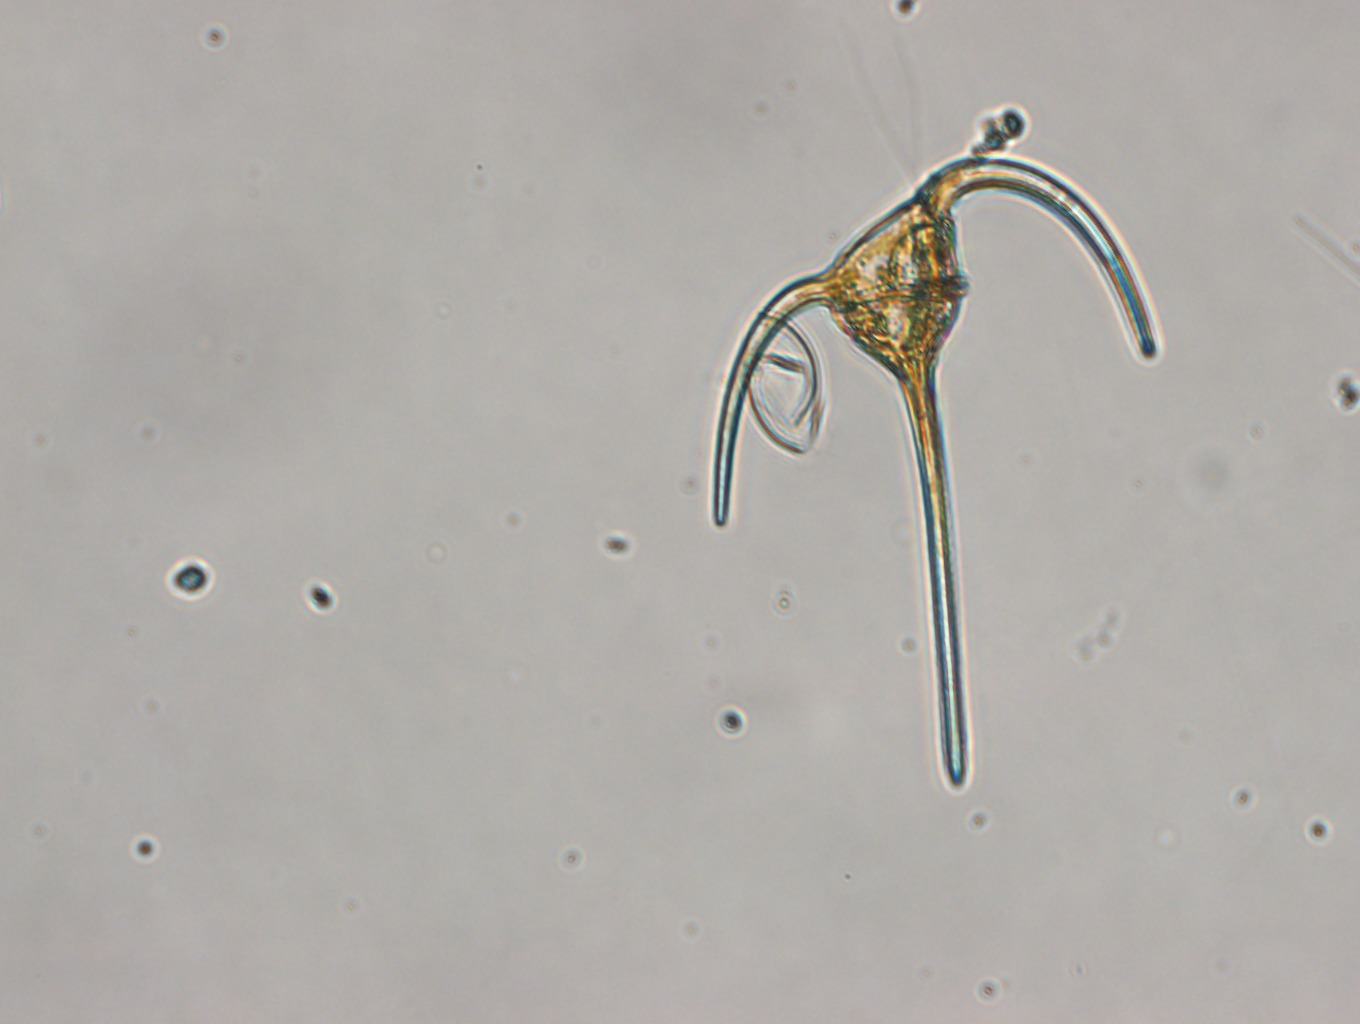ceratium trichoceros: (710, 150, 1162, 795)
